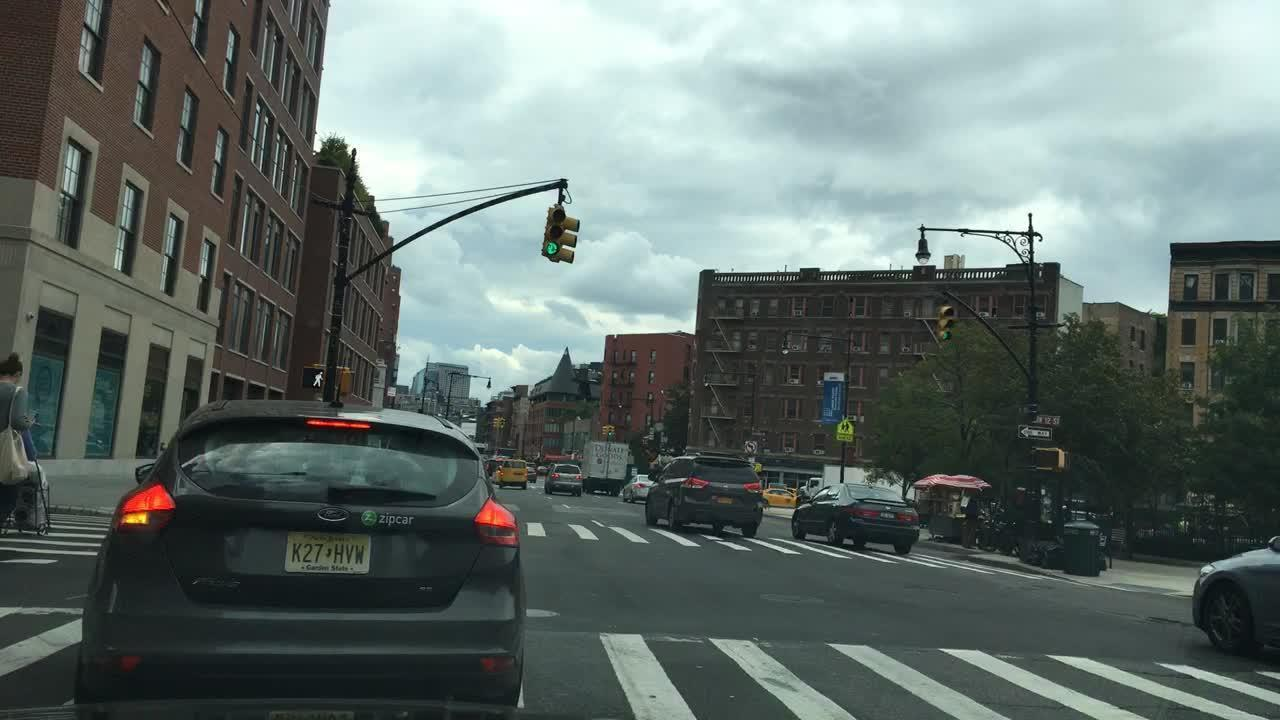ford: (312, 499, 356, 529)
